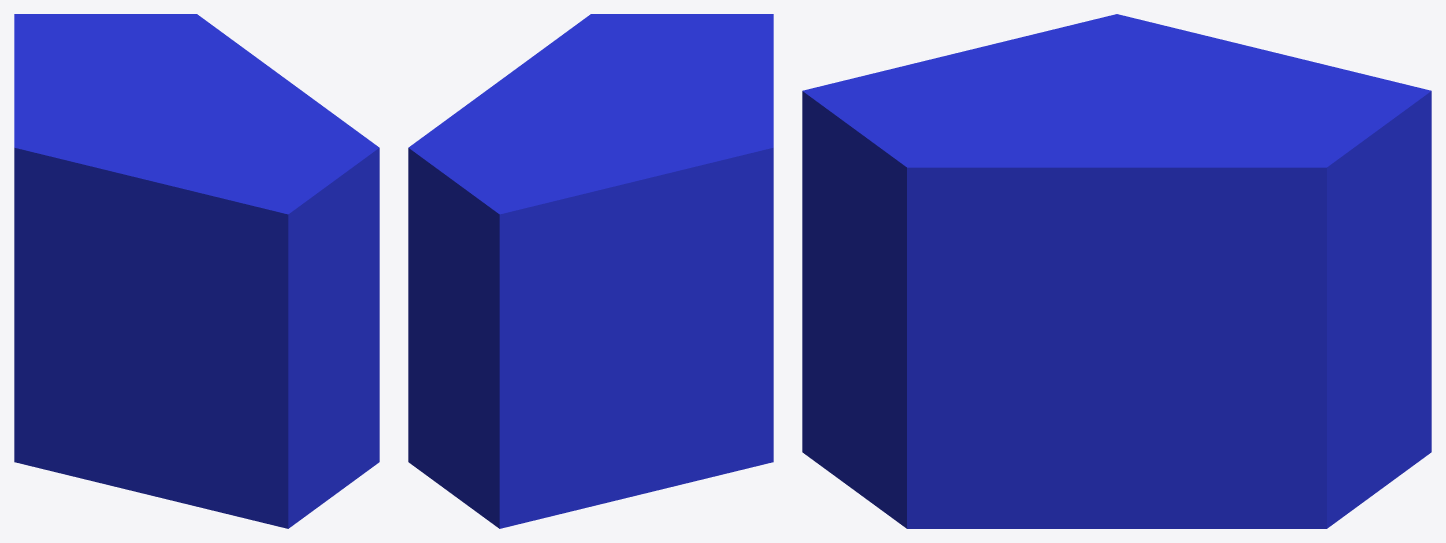
File: module-corner_water_002.glb
3 renders of one model, left to right at view 1: azimuth 30°, elevation 25°; view 2: azimuth 150°, elevation 25°; view 3: azimuth 270°, elevation 25°, orthographic. The views are drawn at different scales.
Parts seen in each view (by area): view 1: module-corner_water_002; view 2: module-corner_water_002; view 3: module-corner_water_002.
Boxes of the visible parts, left/top/right/bottom form: module-corner_water_002: left=14, top=14, right=379, bottom=528; module-corner_water_002: left=408, top=14, right=773, bottom=528; module-corner_water_002: left=802, top=14, right=1431, bottom=528.
Size of the model in its own units: 0.433 by 0.475 by 0.75.
